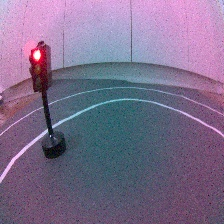red: (29, 40, 68, 160)
